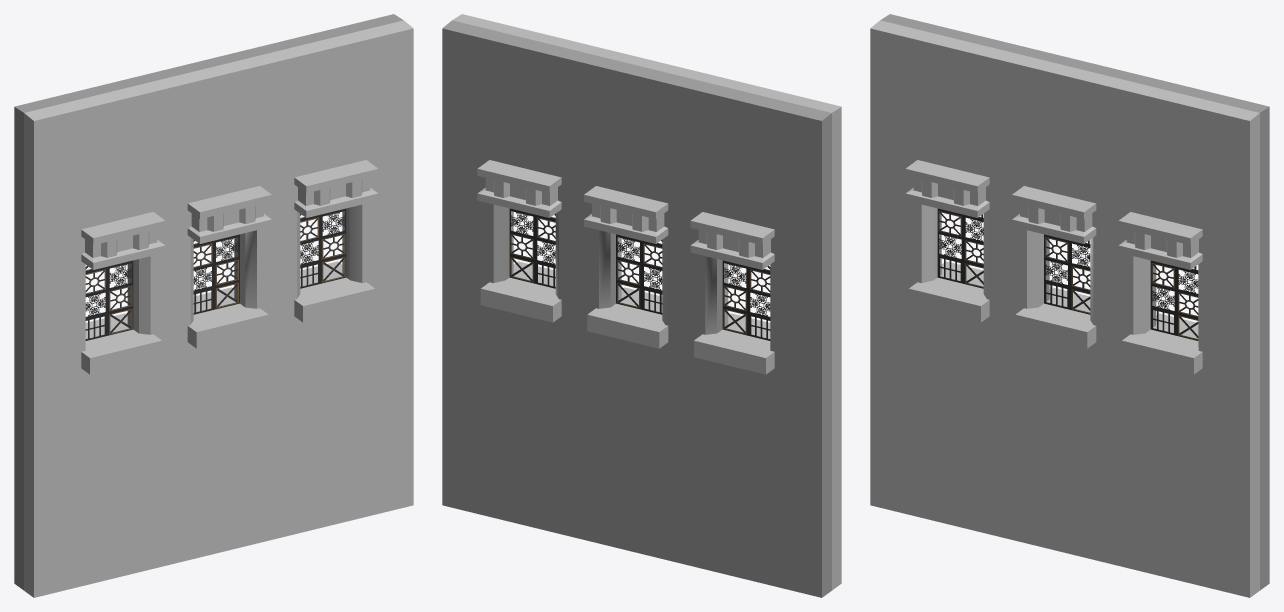
The model's file is SM_Bld_Wall_Window_02.fbx.
3 views of the same model, side by side, from view 1: azimuth 30°, elevation 25°; view 2: azimuth 150°, elevation 25°; view 3: azimuth 330°, elevation 25° (orthographic).
Parts seen in each view (by area): view 1: SM_Bld_Wall_Window_02; view 2: SM_Bld_Wall_Window_02; view 3: SM_Bld_Wall_Window_02.
Part boxes in pixels (x1=…): SM_Bld_Wall_Window_02: x1=14, y1=14, x2=413, y2=597; SM_Bld_Wall_Window_02: x1=442, y1=14, x2=841, y2=597; SM_Bld_Wall_Window_02: x1=870, y1=14, x2=1269, y2=597.
Size of the model in its own units: 250 by 301 by 50.07.
